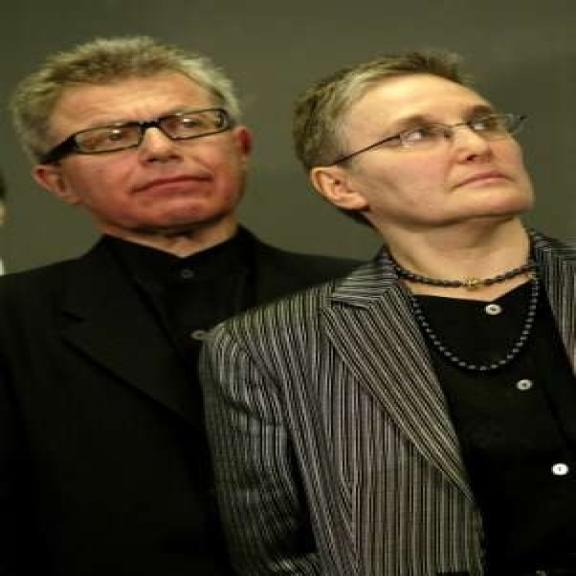face: (26, 52, 261, 232), (298, 70, 548, 226)
